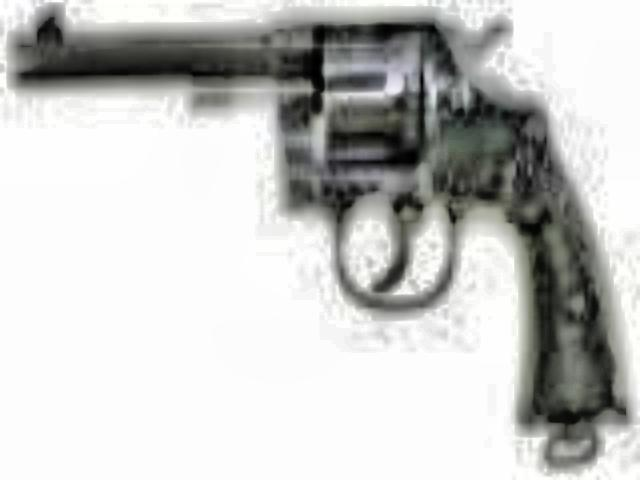pistol: (12, 0, 628, 416)
